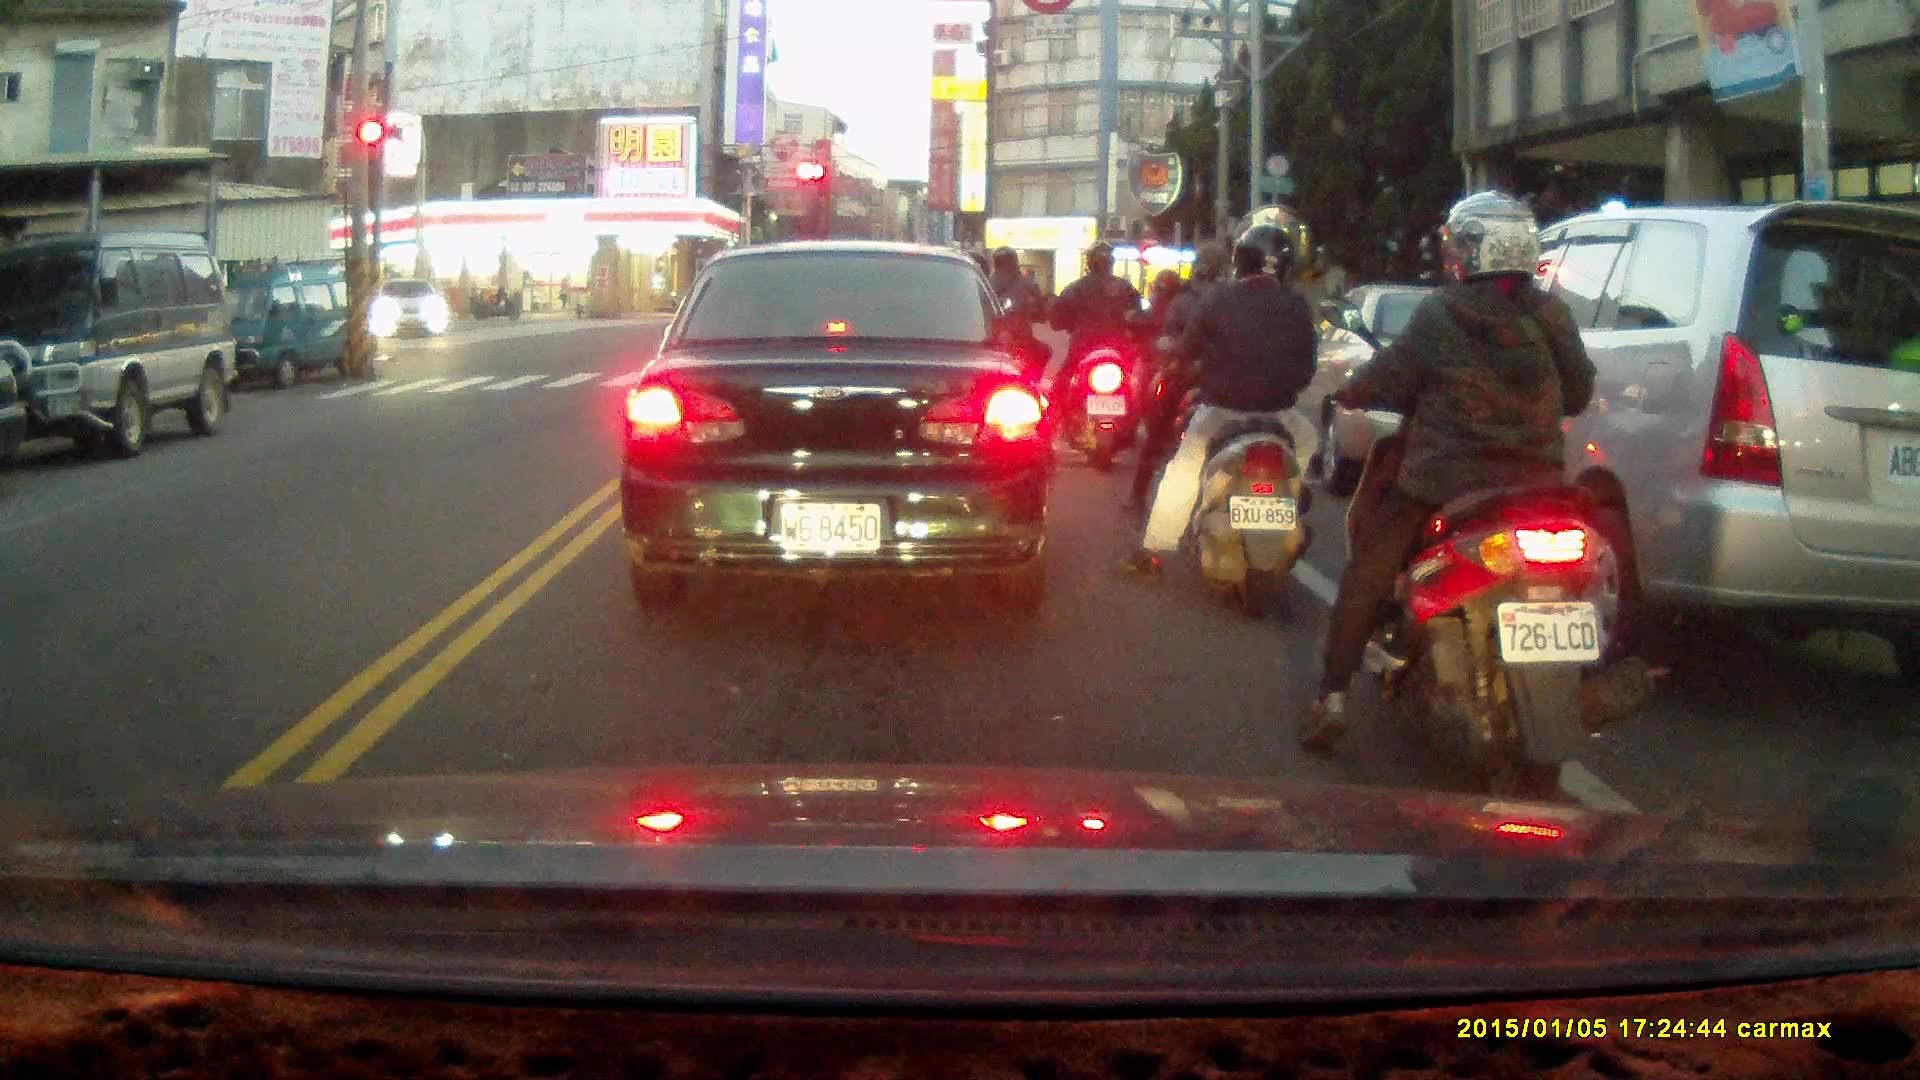rider: (1292, 189, 1658, 817), (1115, 224, 1317, 621), (1122, 239, 1257, 540), (1048, 244, 1142, 469), (969, 244, 1053, 432), (1131, 266, 1202, 448)
vehicle: (1391, 195, 1920, 685), (617, 243, 1061, 606), (1287, 284, 1600, 496), (1, 234, 233, 458), (181, 257, 359, 397), (372, 277, 451, 343)
